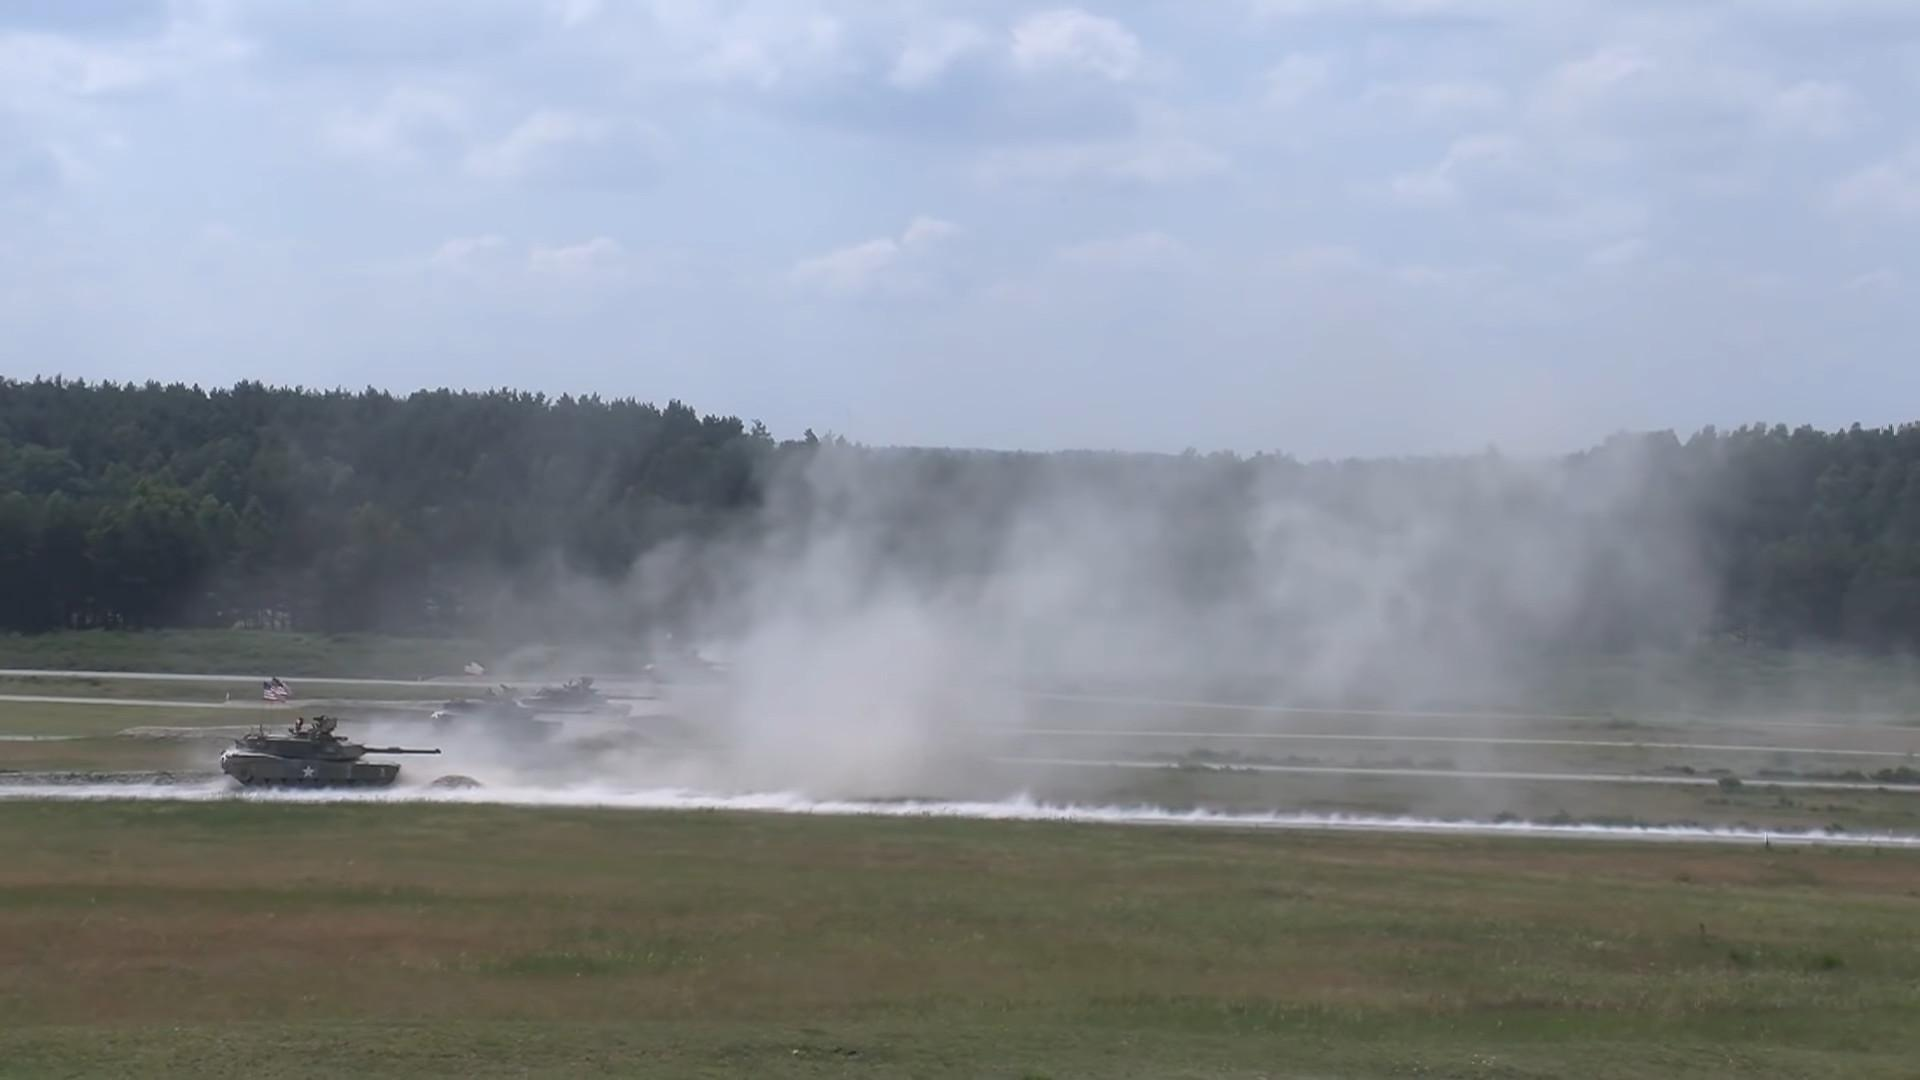tank: (220, 719, 439, 789), (433, 702, 591, 741), (520, 688, 654, 716)
